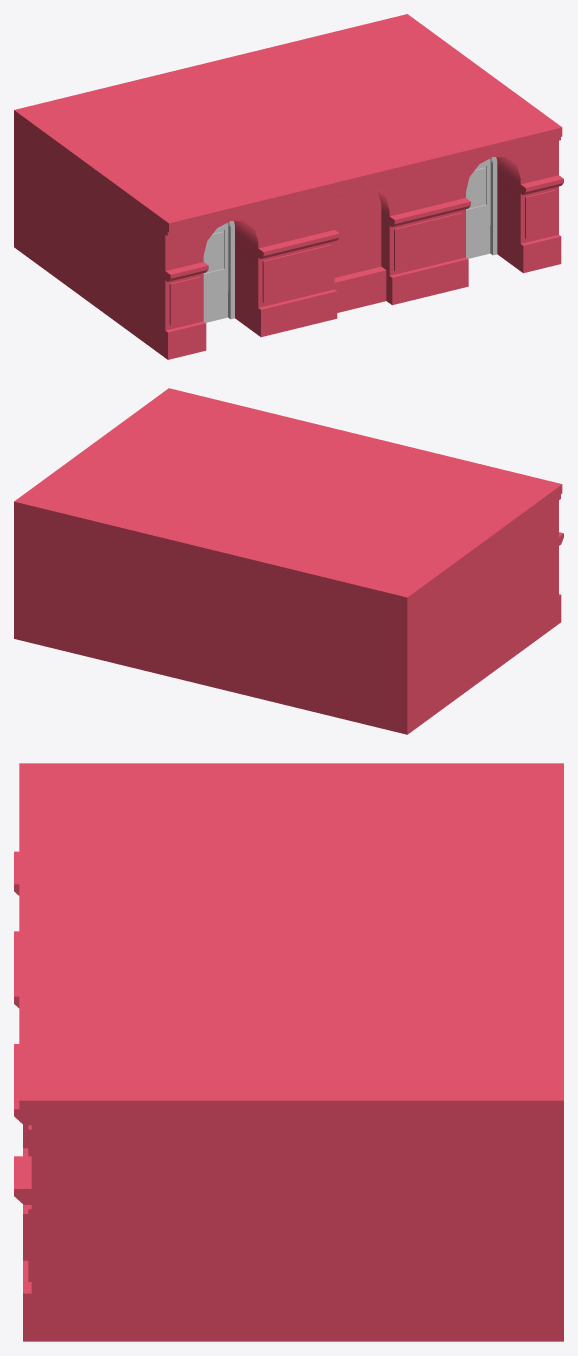
Rendered from 3buildingbase.gltf.
The picture shows the model from 3 angles, top to bottom: view 1: azimuth 30°, elevation 25°; view 2: azimuth 150°, elevation 25°; view 3: azimuth 270°, elevation 25°; orthographic projection. The views are drawn at different scales.
Visible parts, largest first — view 1: Ground floor, Doors; view 2: Ground floor; view 3: Ground floor.
Part boxes in pixels (left/top/right/bottom): Ground floor: left=14, top=14, right=563, bottom=359; Doors: left=203, top=157, right=497, bottom=322; Ground floor: left=14, top=388, right=563, bottom=734; Ground floor: left=14, top=763, right=563, bottom=1341.
Size of the model in its own units: 0.09 by 0.03 by 0.062.
